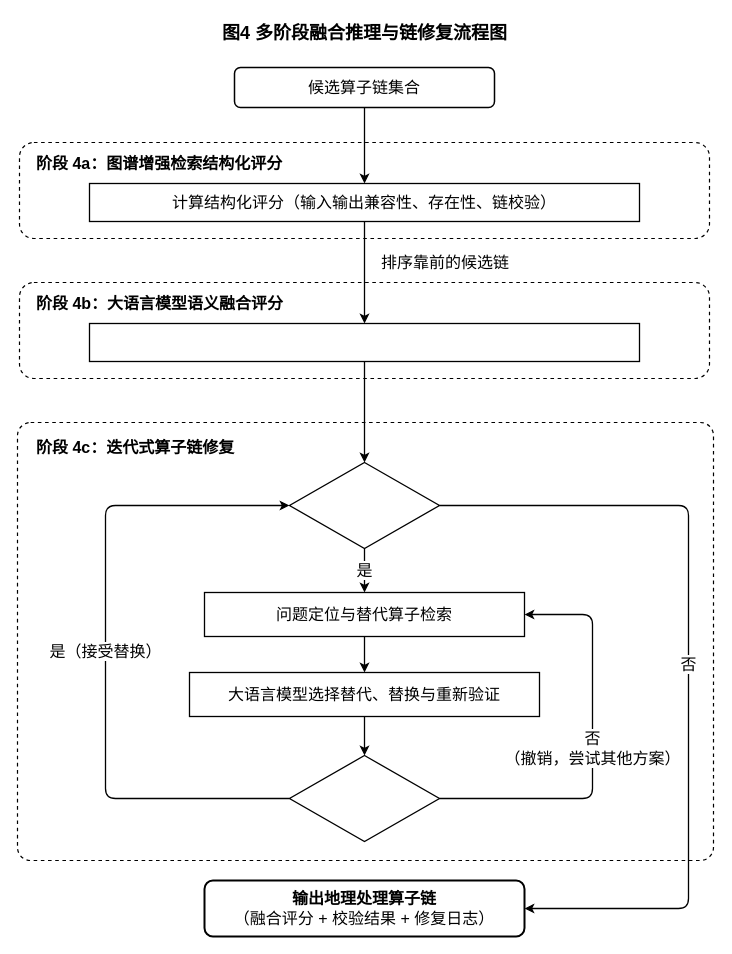
Some shapes in this 732 by 954 pixel diagram are drawn without their labels. The shapes that lost their labels are listed below. From the top down, each one's centre as x and y in pixels, then its label:
At [364,342]: "大语言模型上下文评分 + 融合排序，选出最佳候选链".
At [364,505]: "是否存在 输入输出问题？".
At [364,798]: "问题数 是否减少？".
